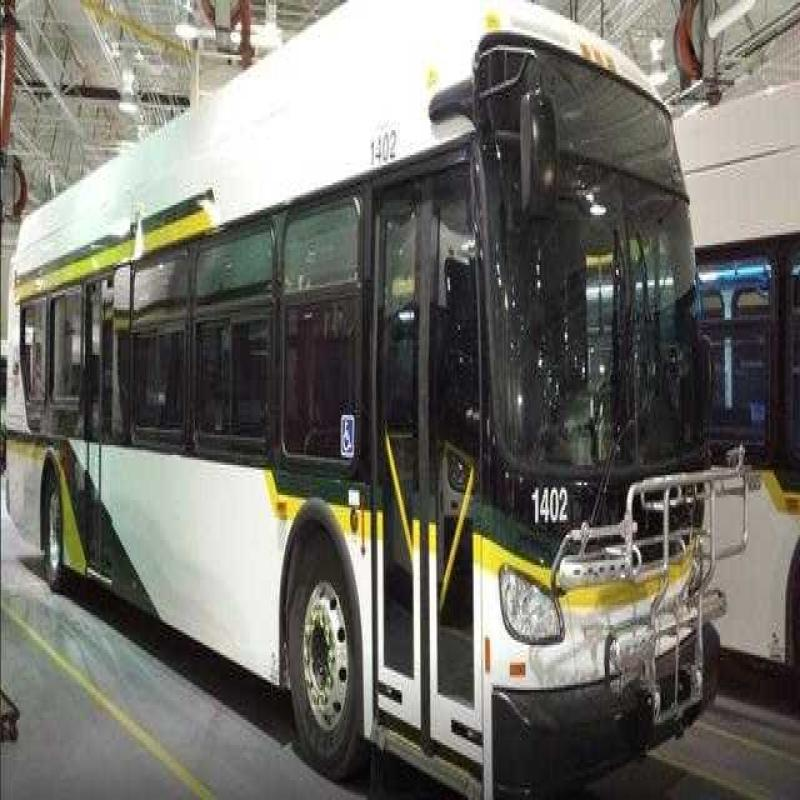bus: (10, 9, 733, 775)
